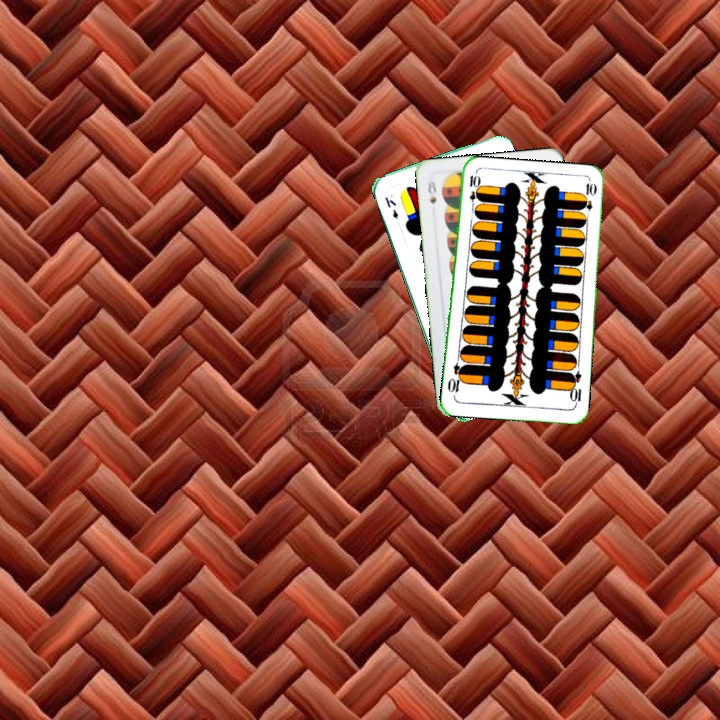E10: (565, 368, 584, 408), (465, 171, 479, 212)
EK: (380, 193, 401, 221)
S8: (424, 177, 439, 207)
